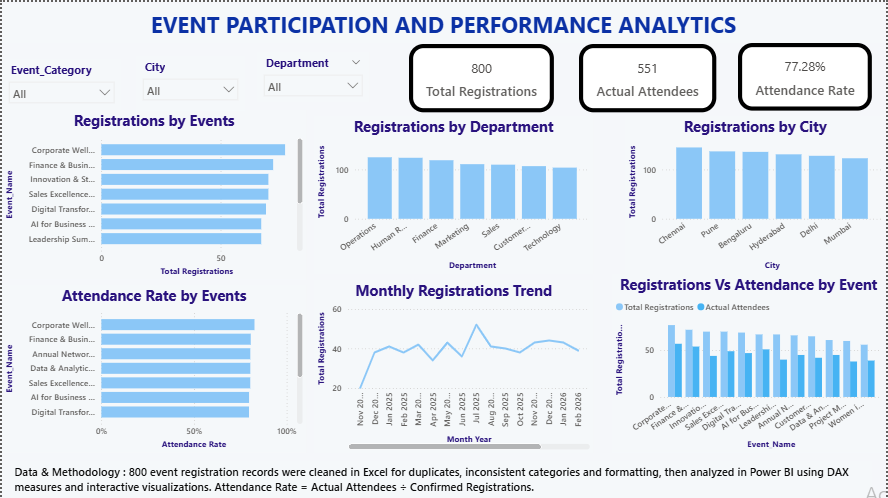

The dashboard page shown, as its layout file describes it:
{"tool":"powerbi","page":{"name":"Page 1","canvas":[1280,720],"ordinal":0},"visuals":[{"type":"card","fields":{"Values":["Cleaned_Data.Total Registrations"]},"box":[322.6,61.9,223.2,99.4],"z":0},{"type":"card","fields":{"Values":["Cleaned_Data.Confirmed Registrations"]},"box":[564.5,61.9,254.9,99.4],"z":1000},{"type":"card","fields":{"Values":["Cleaned_Data.Actual Attendees"]},"box":[839.5,60.5,216,99.4],"z":2000},{"type":"card","fields":{"Values":["Cleaned_Data.Attendance Rate"]},"box":[1069.9,59,201.6,97.9],"z":3000},{"type":"clusteredBarChart","title":"Registrations by Events","fields":{"Category":["Cleaned_Data.Event_Name"],"Y":["Cleaned_Data.Total Registrations"]},"box":[0,161.3,344.2,282.2],"z":4000},{"type":"clusteredBarChart","title":"Attendance Rate by Events","fields":{"Category":["Cleaned_Data.Event_Name"],"Y":["Cleaned_Data.Attendance Rate"]},"box":[4.3,443.5,335.5,276.5],"z":5000},{"type":"clusteredColumnChart","title":"Registrations by Department","fields":{"Category":["Cleaned_Data.Department"],"Y":["Cleaned_Data.Total Registrations"]},"box":[376.3,173,436.7,258.7],"z":6000},{"type":"clusteredColumnChart","title":"Registrations by City","fields":{"Category":["Cleaned_Data.City"],"Y":["Cleaned_Data.Total Registrations"]},"box":[851.7,166.3,428.3,252],"z":7000},{"type":"lineChart","title":"Monthly Registrations Trend","fields":{"Y":["Cleaned_Data.Total Registrations"],"Category":["Cleaned_Data.Month Year"]},"box":[376.3,445.1,460.3,250.3],"z":8000},{"type":"clusteredColumnChart","title":"Registrations Vs Attendance by Event","fields":{"Category":["Cleaned_Data.Event_Name"],"Y":["Cleaned_Data.Total Registrations","Cleaned_Data.Actual Attendees"]},"box":[836.5,427.7,443.5,259.2],"z":9000},{"type":"slicer","fields":{"Values":["Cleaned_Data.Event_Category"]},"box":[18.5,15.1,270.4,33.6],"z":10000},{"type":"slicer","fields":{"Values":["Cleaned_Data.City"]},"box":[18.7,50.4,223.2,38.9],"z":11000},{"type":"slicer","fields":{"Values":["Cleaned_Data.Department"]},"box":[18.7,92.2,252,50.4],"z":12000},{"type":"textbox","box":[289.4,4.3,889.9,54.7],"z":13000}]}

Visuals, with their boxes in screenshot pixels (x1, y1, x2, y2), scaled from the page's 1280x720 canvas onto the 888x498 screenshot:
card - Cleaned_Data.Total Registrations: (224,43,379,112)
card - Cleaned_Data.Confirmed Registrations: (392,43,568,112)
card - Cleaned_Data.Actual Attendees: (582,42,732,111)
card - Cleaned_Data.Attendance Rate: (742,41,882,109)
"Registrations by Events" clusteredBarChart: (0,112,239,307)
"Attendance Rate by Events" clusteredBarChart: (3,307,236,497)
"Registrations by Department" clusteredColumnChart: (261,120,564,299)
"Registrations by City" clusteredColumnChart: (591,115,887,289)
"Monthly Registrations Trend" lineChart: (261,308,580,481)
"Registrations Vs Attendance by Event" clusteredColumnChart: (580,296,887,475)
slicer - Cleaned_Data.Event_Category: (13,10,200,34)
slicer - Cleaned_Data.City: (13,35,168,62)
slicer - Cleaned_Data.Department: (13,64,188,99)
textbox: (201,3,818,41)
